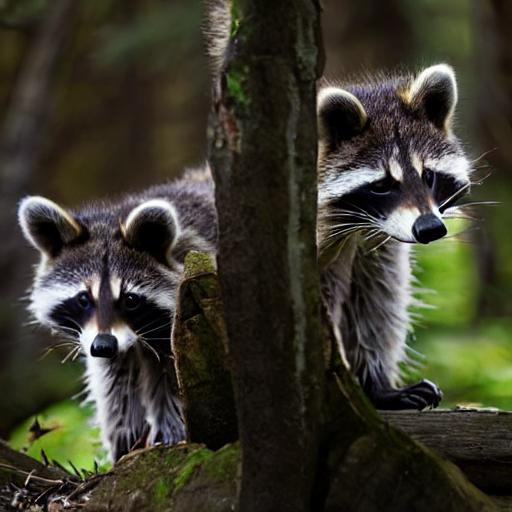raccoon: (15, 160, 218, 460), (310, 60, 478, 368)
